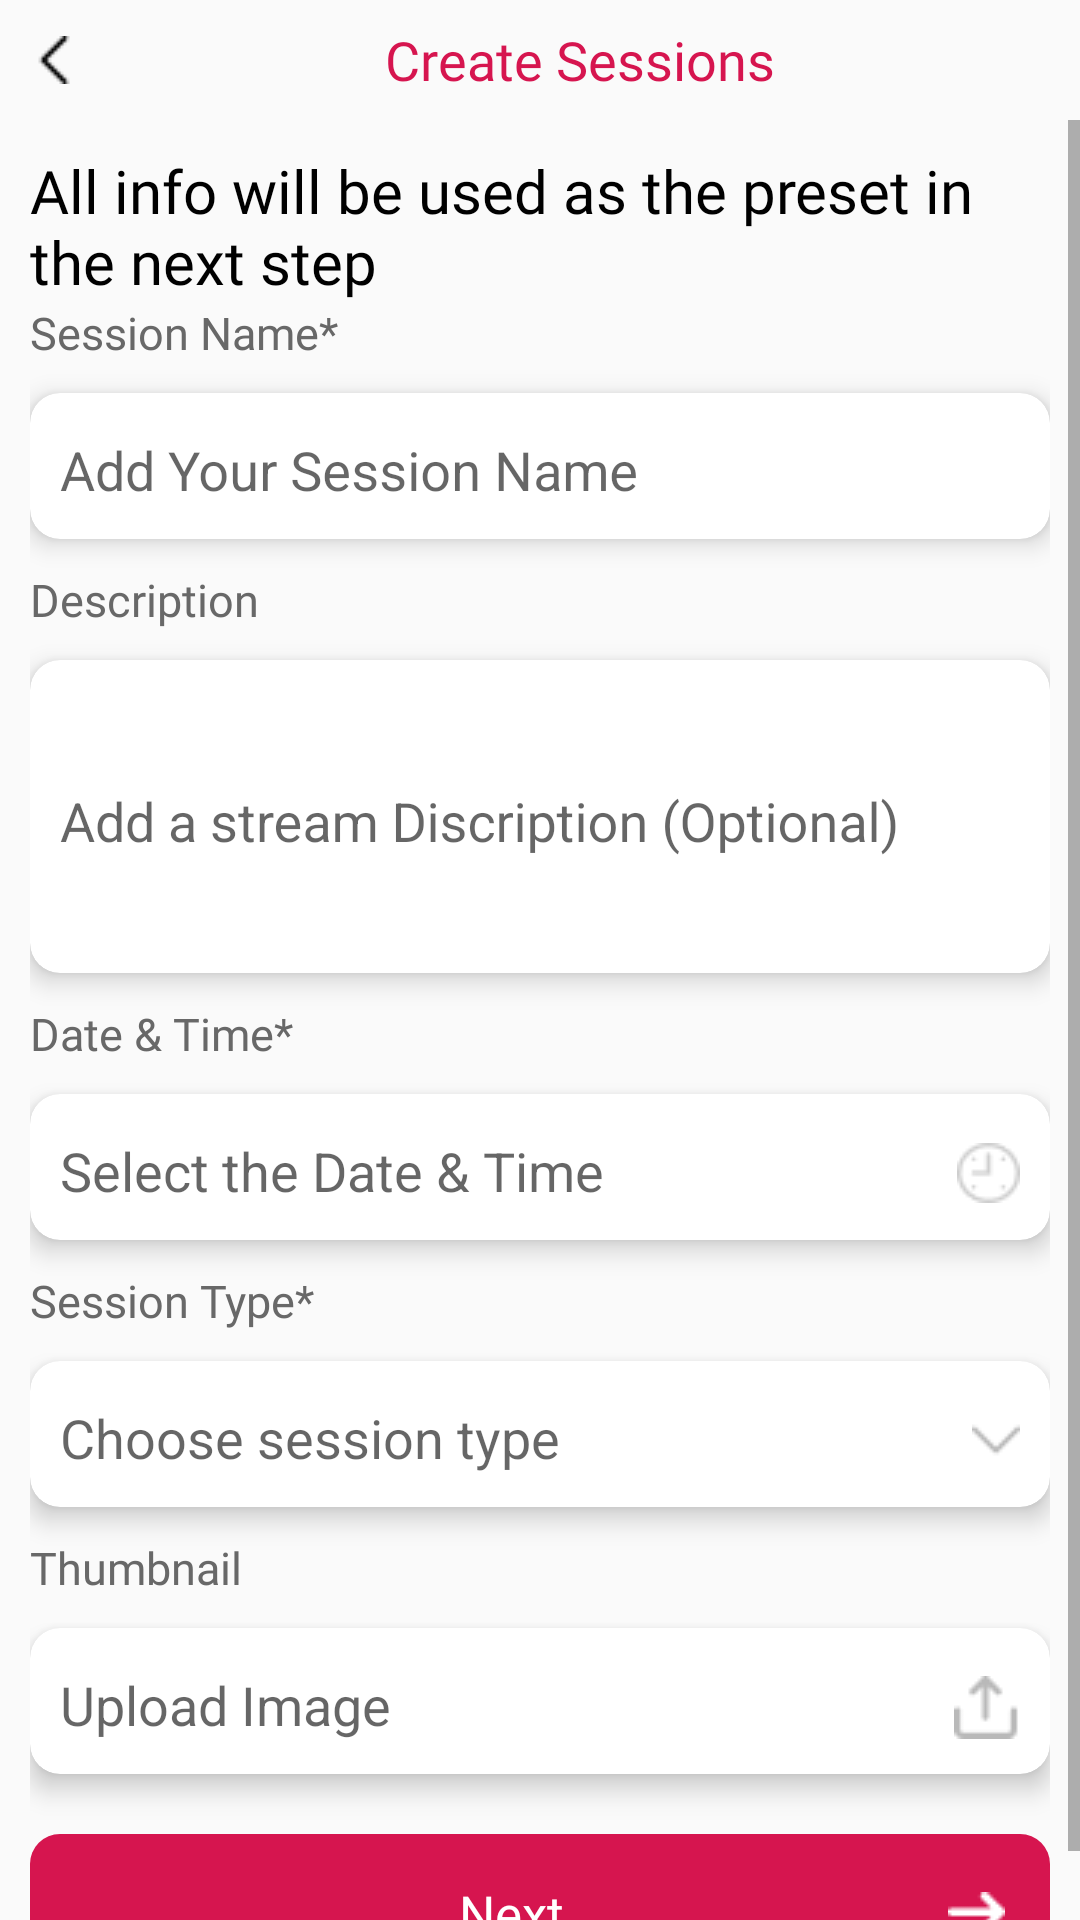

Point at icon controls on the screen. Image size 1080*1920, points as (x=x, y=y).
back: (x=54, y=60)
